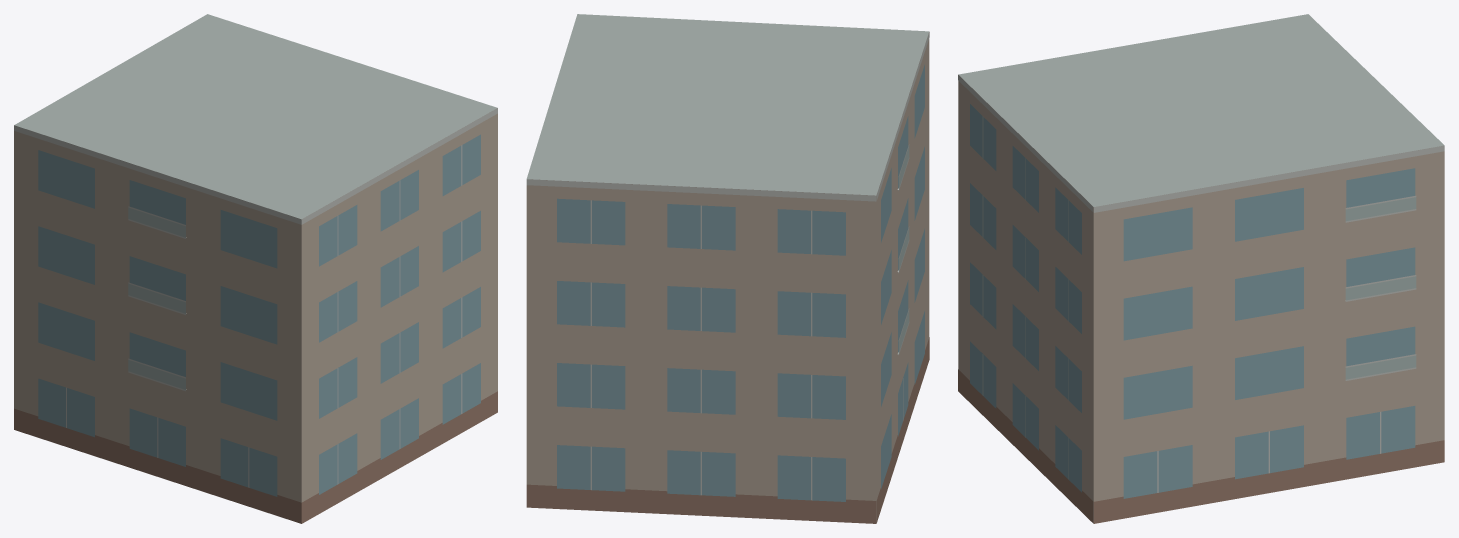
The model's file is survey-upis-32589451.glb.
3 renders of one model, left to right at view 1: azimuth 30°, elevation 25°; view 2: azimuth 150°, elevation 25°; view 3: azimuth 270°, elevation 25°, orthographic. The views are drawn at different scales.
Parts seen in each view (by area): view 1: survey-upis-32589451.tmp; view 2: survey-upis-32589451.tmp; view 3: survey-upis-32589451.tmp.
Part boxes in pixels (box(x1,y1,x2,y2)): survey-upis-32589451.tmp: box(14, 14, 497, 523); survey-upis-32589451.tmp: box(526, 14, 929, 523); survey-upis-32589451.tmp: box(958, 14, 1444, 523).
Size of the model in its own units: 17.44 by 13.33 by 18.56.
